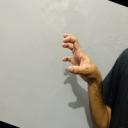hand: (61, 31, 111, 89)
